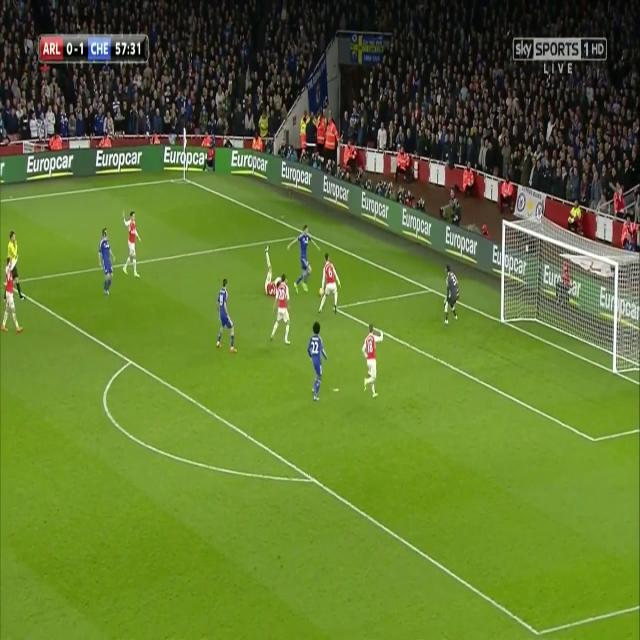Ball: (318, 285, 324, 297)
Goalkeeper: (442, 264, 459, 326)
Player: (287, 225, 323, 292), (305, 318, 329, 404), (360, 321, 385, 399), (267, 274, 293, 349), (315, 248, 342, 316), (214, 278, 237, 355), (3, 260, 26, 336), (120, 207, 142, 281), (96, 225, 117, 296), (262, 241, 279, 298)
Referee: (6, 229, 23, 302)
